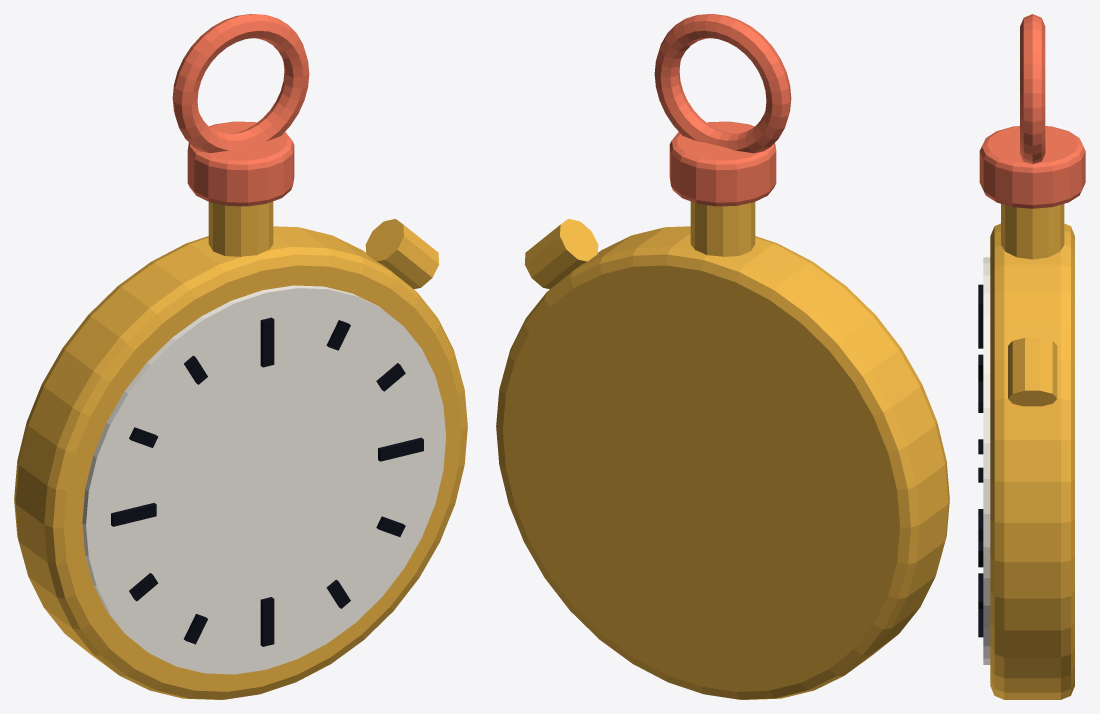
Rendered from stopwatch.glb.
3 views of the same model, side by side, from view 1: azimuth 30°, elevation 25°; view 2: azimuth 150°, elevation 25°; view 3: azimuth 270°, elevation 25° (orthographic).
Parts seen in each view (by area): view 1: dial, case, loop, crown, stem, side, tick0, tick6; view 2: case, loop, crown, stem, side; view 3: case, crown, loop, side, dial, stem, tick0, tick3.
Part boxes in pixels (box(x1,y1,x2,y2)): dial: box(82, 285, 445, 674); case: box(14, 226, 467, 699); loop: box(172, 14, 309, 153); crown: box(187, 121, 294, 206); stem: box(208, 201, 273, 256); side: box(365, 219, 439, 289); tick0: box(260, 317, 274, 367); tick6: box(260, 597, 274, 646); case: box(496, 226, 949, 699); loop: box(654, 14, 791, 153); crown: box(669, 121, 776, 206); stem: box(690, 201, 755, 256); side: box(524, 219, 598, 289); case: box(990, 223, 1074, 699); crown: box(979, 126, 1085, 208); loop: box(1020, 14, 1045, 163); side: box(1008, 337, 1057, 406); dial: box(983, 257, 990, 664); stem: box(1001, 204, 1064, 259); tick0: box(978, 298, 983, 348); tick3: box(978, 509, 983, 541).
Size of the model in its own units: 0.68 by 1.03 by 0.152.
